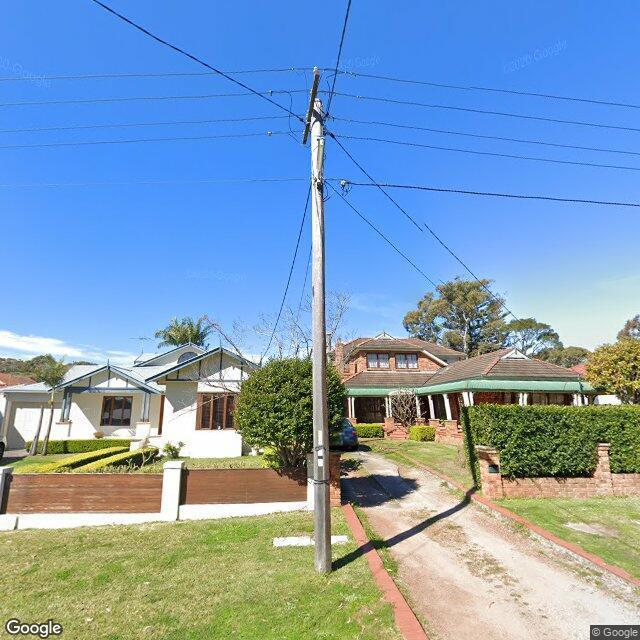crossarm: (301, 69, 322, 143)
timber-pole: (310, 100, 332, 576)
